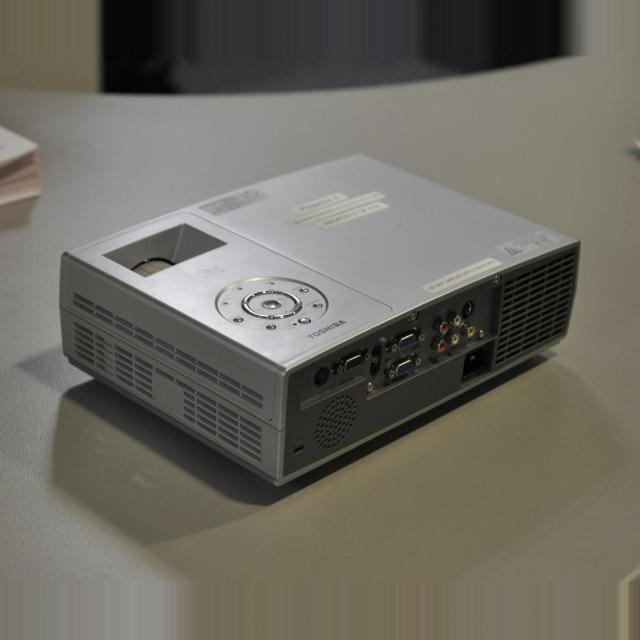Projector: (60, 155, 582, 488)
